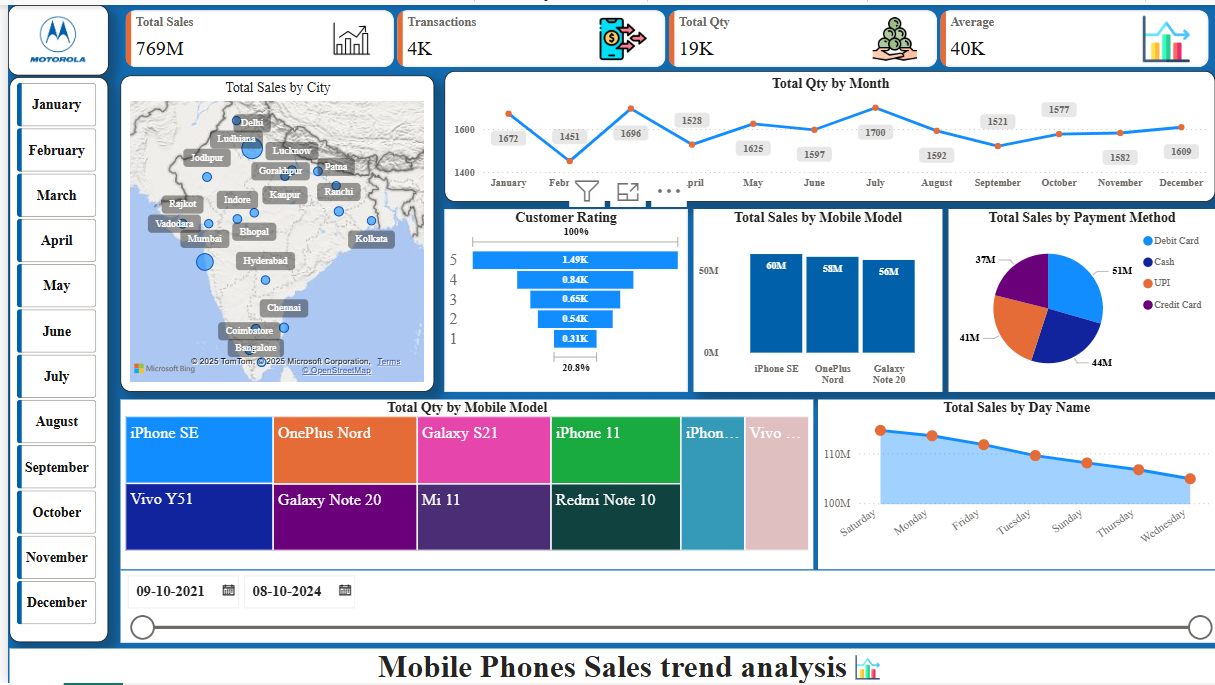

What the dashboard file says about the page in this screenshot:
{"tool":"powerbi","page":{"name":"Page 1","canvas":[1280,720],"ordinal":0},"visuals":[{"type":"shape","box":[0,0,106.7,74.4],"z":0},{"type":"image","box":[4.4,2.2,95.6,68.9],"z":1000},{"type":"shape","box":[1.6,76.3,105,599.7],"z":2000},{"type":"advancedSlicerVisual","fields":{"Values":["Sales Data.Date.Variation.Date Hierarchy.Month"]},"box":[9.5,82.7,84.3,582.2],"z":3000},{"type":"cardVisual","fields":{"Data":["Sales Data.Total Sales","Sales Data.Transactions","Sales Data.Total Qty","Sales Data.Average"]},"box":[119.3,0,1161.1,71.6],"z":4000},{"type":"map","fields":{"Category":["Sales Data.City"],"Size":["Sales Data.Total Sales"]},"box":[119.3,74.8,332.4,335.6],"z":5000},{"type":"lineChart","fields":{"Y":["Sales Data.Total Qty"],"Category":["Sales Data.Date.Variation.Date Hierarchy.Month","Sales Data.Date.Variation.Date Hierarchy.Day"]},"box":[462.9,70,817.6,138.4],"z":6000},{"type":"columnChart","fields":{"Y":["Sales Data.Total Sales"],"Category":["Sales Data.Mobile Model"]},"box":[726.9,216.3,264,194.1],"z":7000},{"type":"pieChart","fields":{"Y":["Sales Data.Total Sales"],"Category":["Sales Data.Payment Method"]},"box":[997.3,216.3,283.1,194.1],"z":8000},{"type":"funnel","title":"Customer Rating","fields":{"Y":["CountNonNull(Sales Data.Customer Ratings)"],"Category":["Sales Data.Customer Ratings"]},"box":[462.9,216.3,257.7,194.1],"z":9000},{"type":"areaChart","fields":{"Y":["Sales Data.Total Sales"],"Category":["Sales Data.Day Name"]},"box":[858.9,418.3,421.5,179.7],"z":10000},{"type":"treemap","fields":{"Group":["Sales Data.Mobile Model"],"Values":["Sales Data.Total Qty"]},"box":[119.3,418.3,734.9,179.7],"z":11000},{"type":"shape","title":"Mobile Phones Sales trend analysis","box":[1.6,683,1278.9,37],"z":13000},{"type":"image","box":[886,683.4,50.9,36.6],"z":13001},{"type":"slicer","fields":{"Values":["Sales Data.Date"]},"box":[119.3,599.7,1161.1,76.3],"z":13002}]}

Visuals, with their boxes in screenshot pixels (x1, y1, x2, y2), scaled from the page's 1280x720 canvas onto the 1215x685 screenshot:
shape: bbox(0, 0, 101, 71)
image: bbox(4, 2, 95, 68)
shape: bbox(2, 73, 101, 643)
advancedSlicerVisual - Sales Data.Date.Variation.Date Hierarchy.Month: bbox(9, 79, 89, 633)
cardVisual - Sales Data.Total Sales x Sales Data.Transactions: bbox(113, 0, 1214, 68)
map - Sales Data.City x Sales Data.Total Sales: bbox(113, 71, 429, 390)
lineChart - Sales Data.Total Qty x Sales Data.Date.Variation.Date Hierarchy.Month: bbox(439, 67, 1214, 198)
columnChart - Sales Data.Total Sales x Sales Data.Mobile Model: bbox(690, 206, 941, 390)
pieChart - Sales Data.Total Sales x Sales Data.Payment Method: bbox(947, 206, 1214, 390)
"Customer Rating" funnel: bbox(439, 206, 684, 390)
areaChart - Sales Data.Total Sales x Sales Data.Day Name: bbox(815, 398, 1214, 569)
treemap - Sales Data.Mobile Model x Sales Data.Total Qty: bbox(113, 398, 811, 569)
"Mobile Phones Sales trend analysis" shape: bbox(2, 650, 1214, 684)
image: bbox(841, 650, 889, 684)
slicer - Sales Data.Date: bbox(113, 571, 1214, 643)
